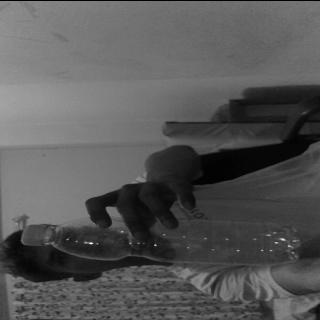plastic_bottles: (23, 212, 301, 268)
